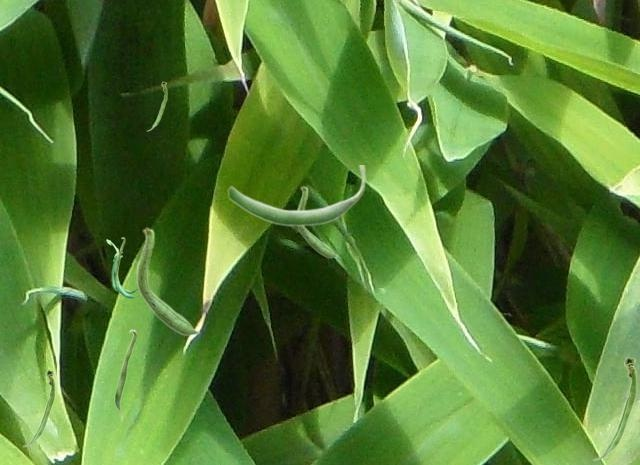french_bean: (227, 165, 365, 226), (136, 226, 199, 335), (592, 356, 636, 460), (297, 185, 337, 257), (22, 369, 54, 446), (114, 329, 136, 420), (106, 239, 140, 297), (146, 81, 166, 130), (113, 237, 124, 286)
